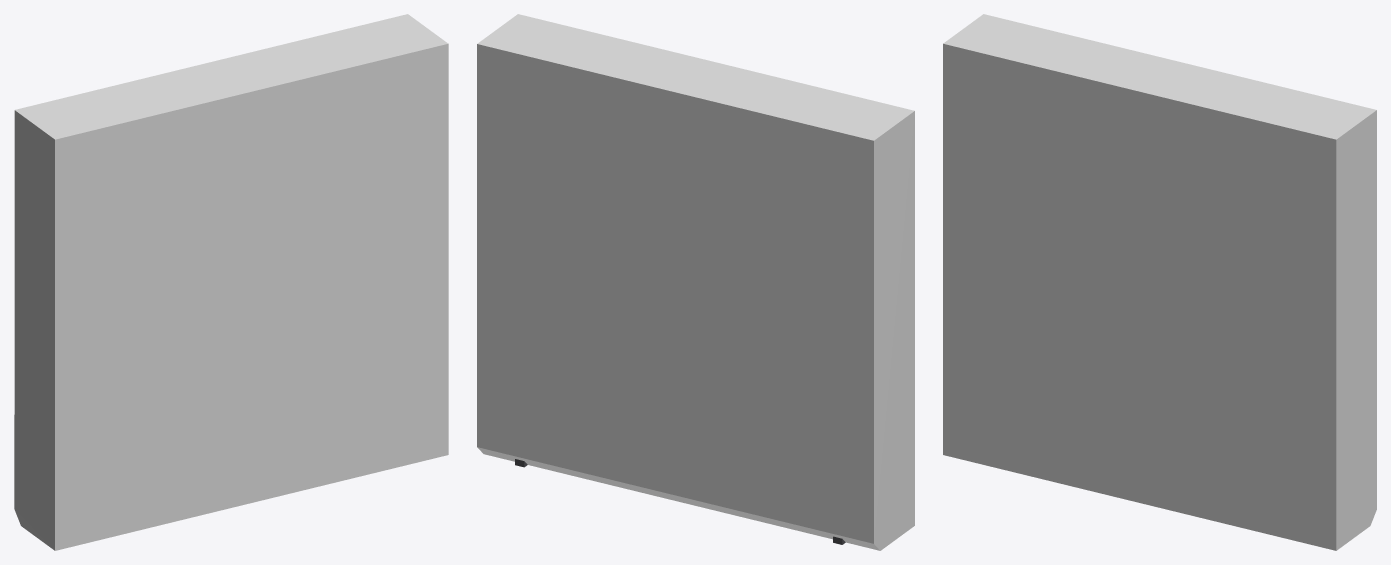
File: SM_Bld_Wall_06.fbx
The picture shows the model from 3 angles, left to right: view 1: azimuth 30°, elevation 25°; view 2: azimuth 150°, elevation 25°; view 3: azimuth 330°, elevation 25°; orthographic projection.
Visible parts, largest first — view 1: SM_Bld_Wall_06_ConvexHulls; view 2: SM_Bld_Wall_06_ConvexHulls; view 3: SM_Bld_Wall_06_ConvexHulls.
Part boxes in pixels (<box>): SM_Bld_Wall_06_ConvexHulls: <box>14,14,448,550</box>; SM_Bld_Wall_06_ConvexHulls: <box>477,14,914,550</box>; SM_Bld_Wall_06_ConvexHulls: <box>943,14,1376,550</box>.
Bounding box in the file's own units: 89.49 × 500 × 500.
Materials: 1 (1 with a texture image).
